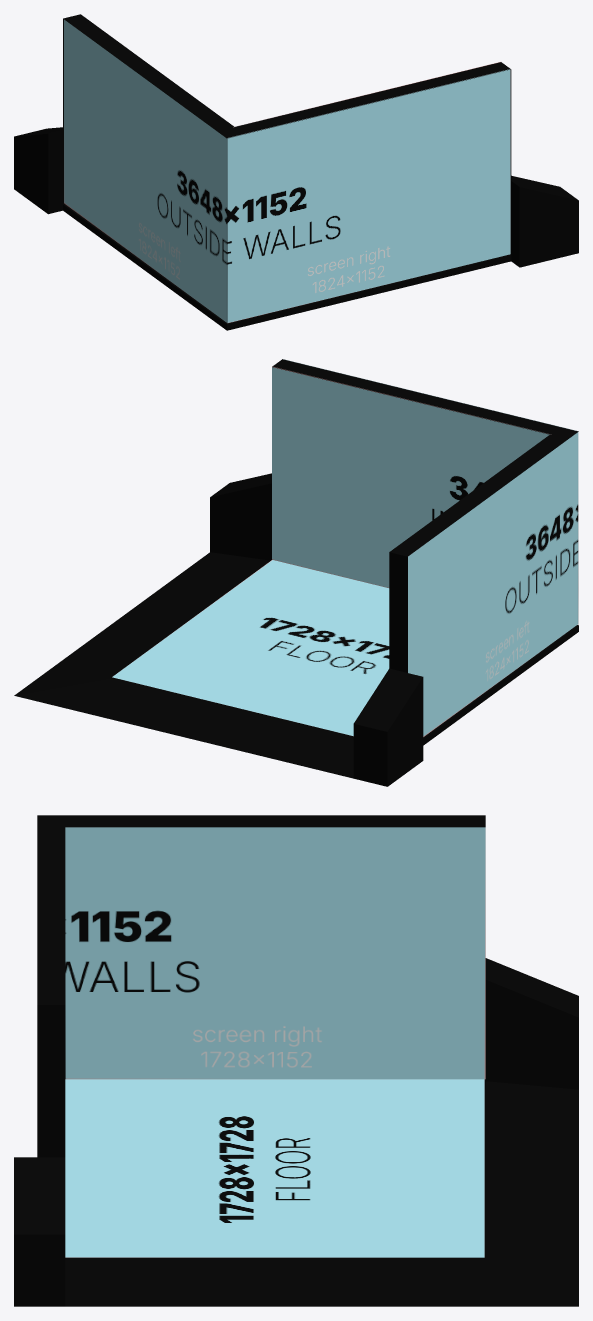
Rendered from Portal_mapped.fbx.
The picture shows the model from 3 angles, top to bottom: view 1: azimuth 30°, elevation 25°; view 2: azimuth 150°, elevation 25°; view 3: azimuth 270°, elevation 25°; orthographic projection. The views are drawn at different scales.
Parts seen in each view (by area): view 1: Cube, Cube.001, PORTAL_STRUCTURE; view 2: PORTAL_STRUCTURE, Cube, Cube.001, Plane; view 3: Cube.001, PORTAL_STRUCTURE, Plane.
Part boxes in pixels (x1=…): Cube: x1=227, y1=62, x2=510, y2=323; Cube.001: x1=64, y1=19, x2=227, y2=322; PORTAL_STRUCTURE: x1=14, y1=14, x2=578, y2=330; PORTAL_STRUCTURE: x1=14, y1=359, x2=578, y2=786; Cube: x1=272, y1=359, x2=577, y2=587; Cube.001: x1=408, y1=432, x2=578, y2=736; Plane: x1=112, y1=560, x2=389, y2=736; Cube.001: x1=65, y1=827, x2=485, y2=1079; PORTAL_STRUCTURE: x1=14, y1=815, x2=578, y2=1306; Plane: x1=65, y1=1079, x2=484, y2=1257.
Size of the model in its own units: 605 by 311 by 605.
8 materials, 5 textured.
